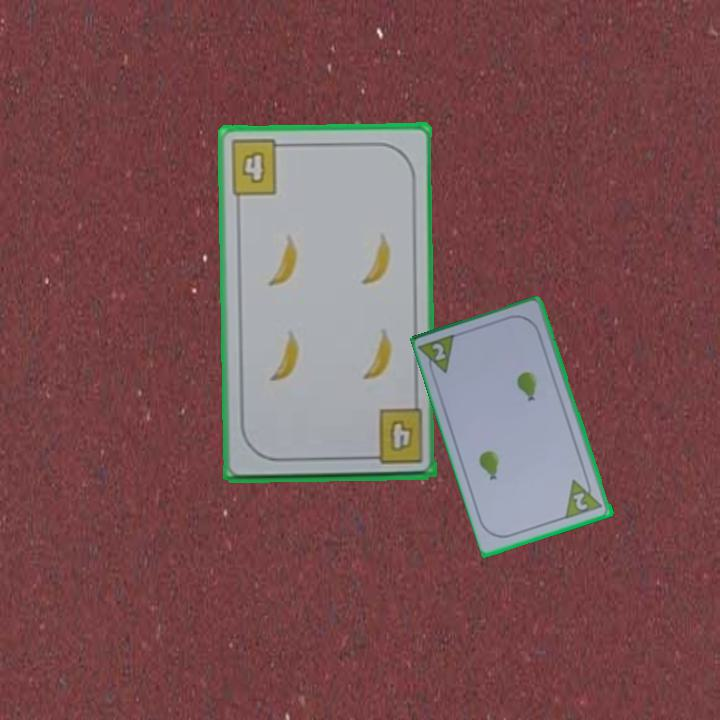2p: (417, 330, 460, 381), (562, 473, 606, 522)
4b: (226, 136, 290, 198), (363, 406, 426, 468)
